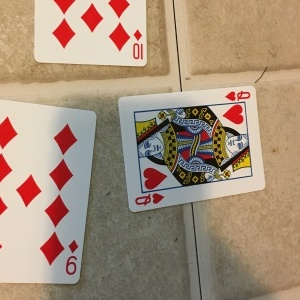card: (118, 86, 266, 214)
